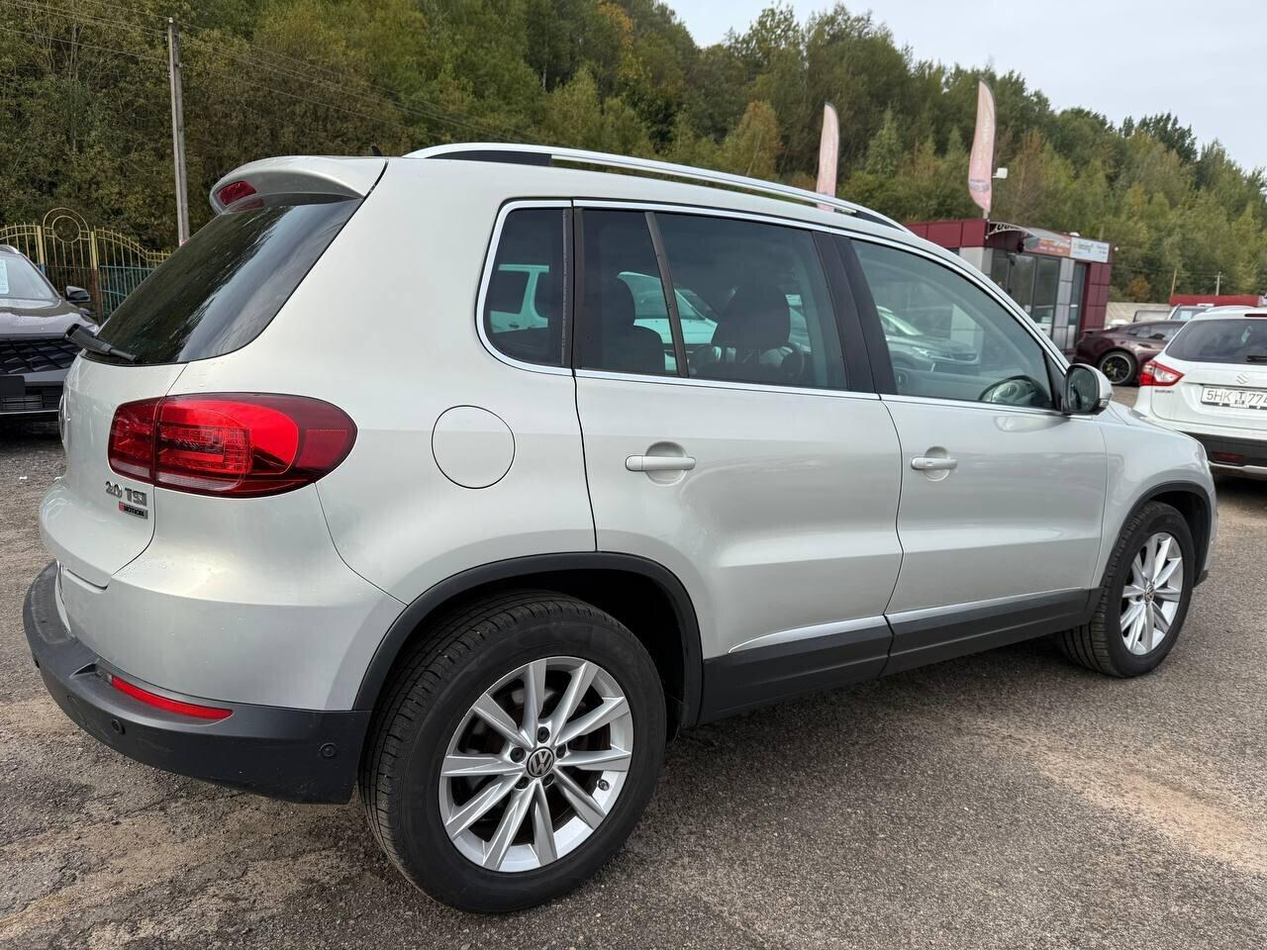Tiguan_2011-2018: (21, 141, 1231, 903)
